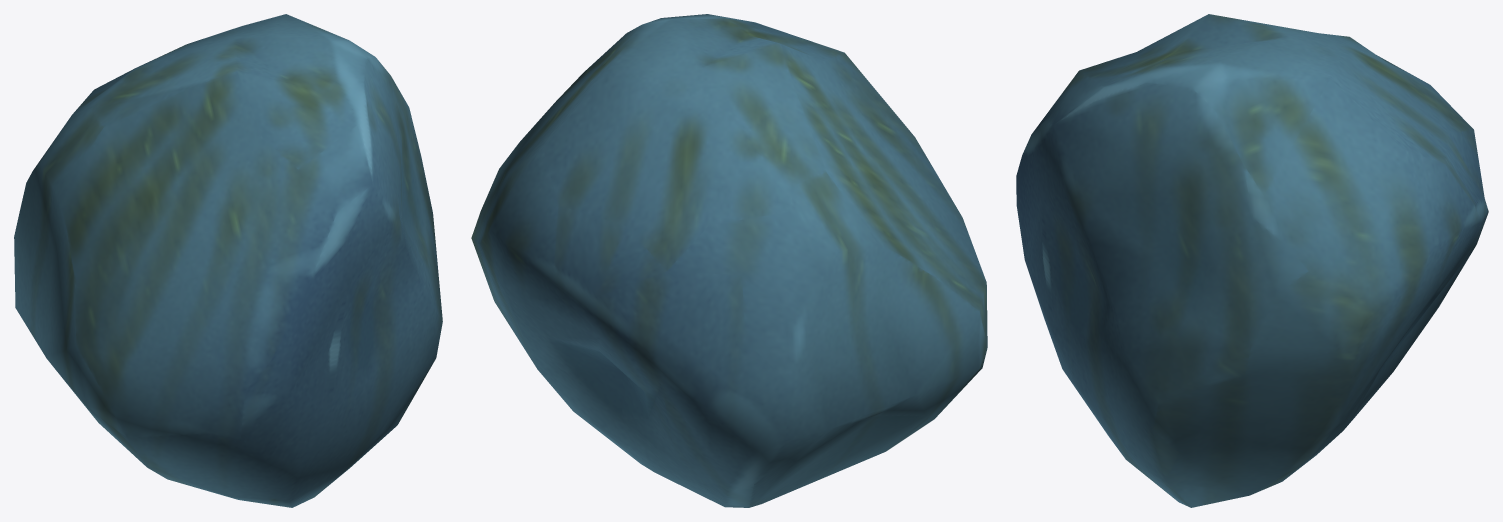
The model's file is Stone_03.fbx.
3 views of the same model, side by side, from view 1: azimuth 30°, elevation 25°; view 2: azimuth 150°, elevation 25°; view 3: azimuth 270°, elevation 25° (orthographic). The views are drawn at different scales.
Visible parts, largest first — view 1: Stone_3; view 2: Stone_3; view 3: Stone_3.
Part boxes in pixels (<box>): Stone_3: <box>14,14,442,507</box>; Stone_3: <box>471,14,987,507</box>; Stone_3: <box>1016,14,1488,507</box>.
Size of the model in its own units: 236 by 247 by 231.
